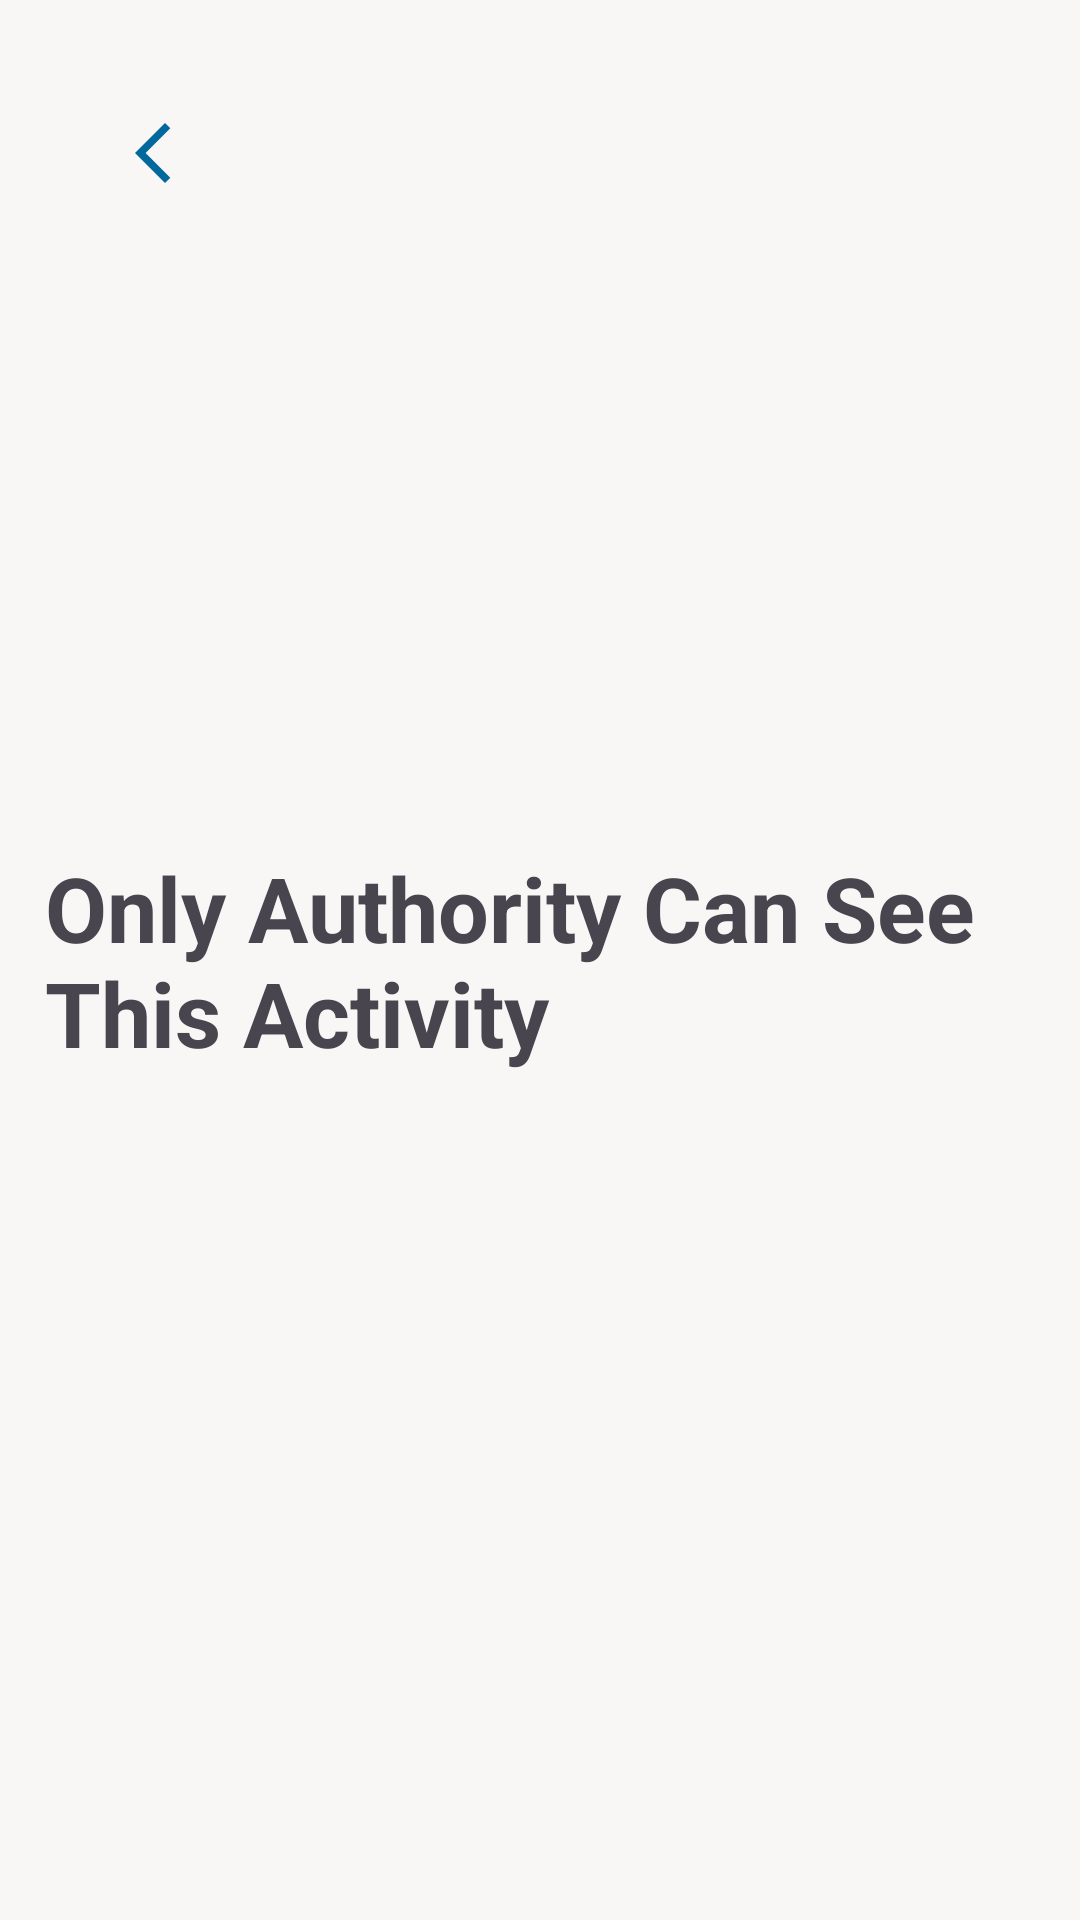

Where to tap for icons on this 1080 × 1920 app screen, as [x,y]:
arrow back: [152,153]
